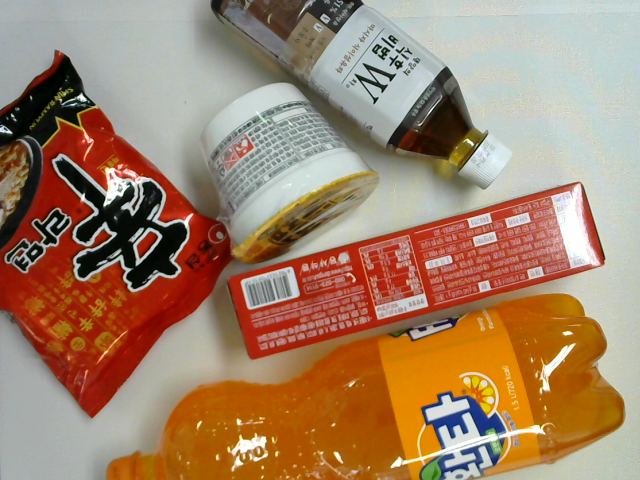Hejangmini: (197, 81, 379, 264)
Hwanta_Orange_1.5L: (107, 293, 626, 480)
Post-meal_recipe_W_tea_500ml: (212, 1, 511, 190)
Ritz_Cracker: (224, 181, 607, 361)
Sinramen: (1, 50, 233, 422)
